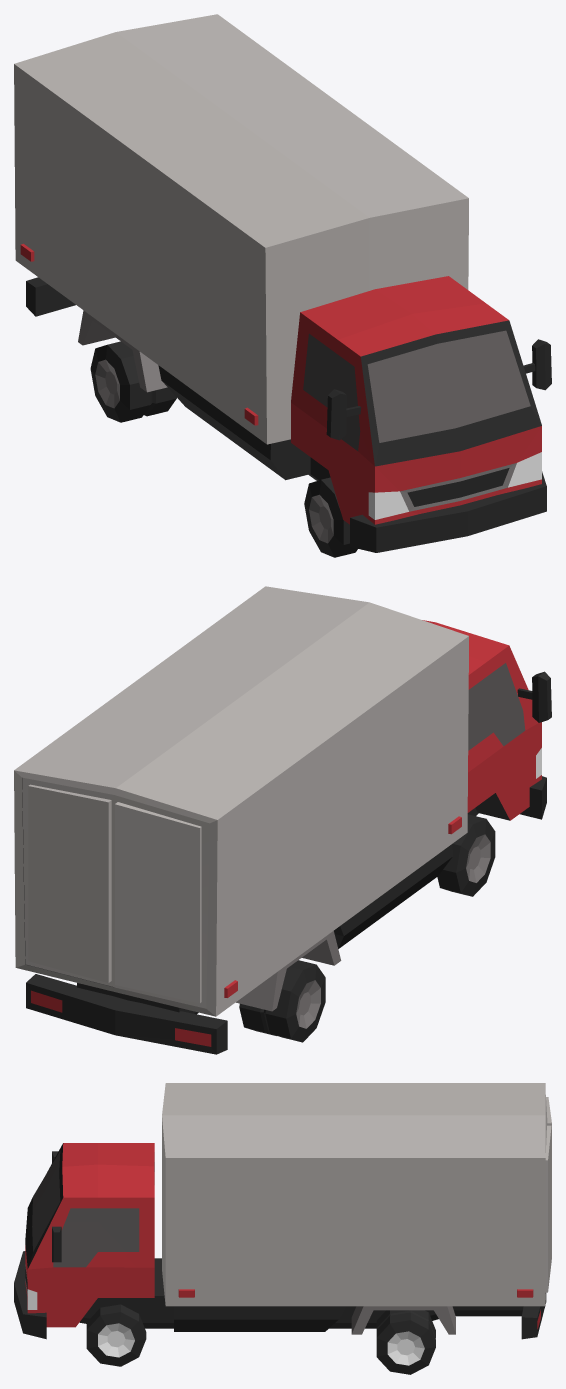
Rendered from vehicles_truck.fbx.
3 renders of one model, top to bottom at view 1: azimuth 30°, elevation 25°; view 2: azimuth 150°, elevation 25°; view 3: azimuth 270°, elevation 25°, orthographic. The views are drawn at different scales.
Visible parts, largest first — view 1: truck_base, truck_wheel_BR, truck_wheel_FR; view 2: truck_base, truck_door_R, truck_door_L, truck_wheel_BR, truck_wheel_FR; view 3: truck_base, truck_wheel_BL, truck_wheel_FL, truck_door_L.
Part boxes in pixels (box(x1,y1,x2,y2)): truck_base: box(14, 14, 551, 552); truck_wheel_BR: box(90, 341, 176, 422); truck_wheel_FR: box(304, 477, 357, 557); truck_base: box(14, 586, 551, 1054); truck_door_R: box(114, 795, 209, 1008); truck_door_L: box(22, 777, 114, 986); truck_wheel_BR: box(239, 960, 325, 1042); truck_wheel_FR: box(437, 814, 495, 896); truck_base: box(14, 1083, 547, 1339); truck_wheel_BL: box(376, 1310, 435, 1374); truck_wheel_FL: box(86, 1304, 146, 1366); truck_door_L: box(545, 1125, 551, 1292).
Size of the model in its own units: 71.76 by 91.68 by 200.
